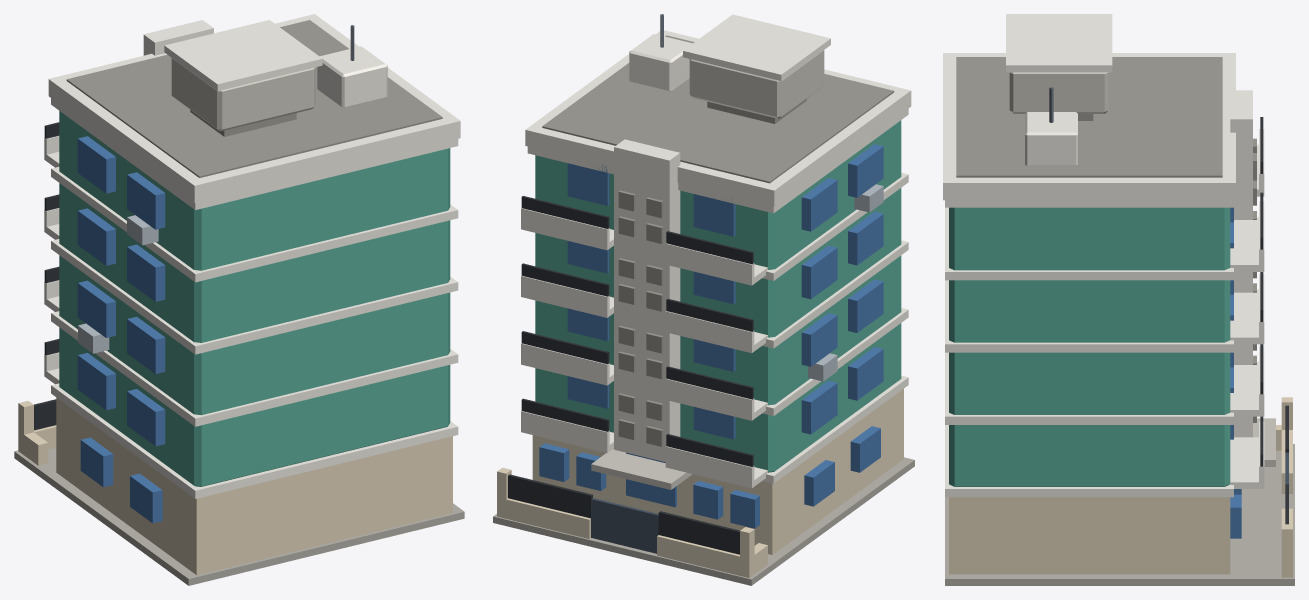
File: predio_apartamentos.glb
The picture shows the model from 3 angles, left to right: view 1: azimuth 30°, elevation 25°; view 2: azimuth 150°, elevation 25°; view 3: azimuth 270°, elevation 25°; orthographic projection. The views are drawn at different scales.
Visible parts, largest first — view 1: corpo; view 2: corpo; view 3: corpo.
Part boxes in pixels (left/top/right/bottom): corpo: left=14, top=14, right=464, bottom=585; corpo: left=493, top=14, right=914, bottom=585; corpo: left=943, top=14, right=1294, bottom=585.
Size of the model in its own units: 0.86 by 1.36 by 0.925.
